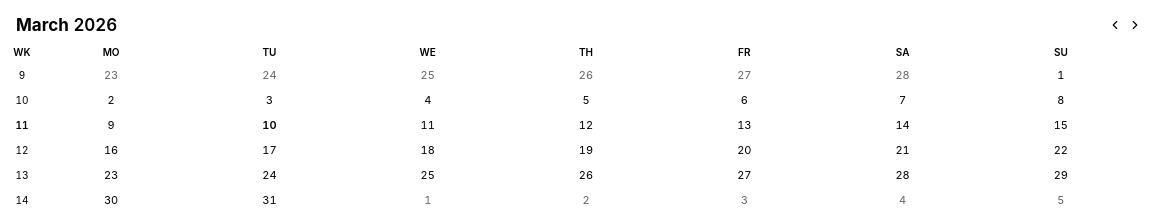
Test case: MiniCalendar › paging › pages on from the paged month
Click the button named "Next month". click: {"x": 1135, "y": 25}
box: [1126,16,1144,34]
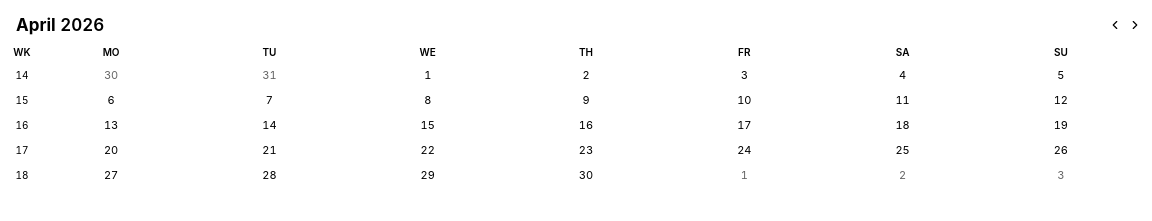
Click the button named "Next month". click: {"x": 1135, "y": 25}
box: [1126,16,1144,34]
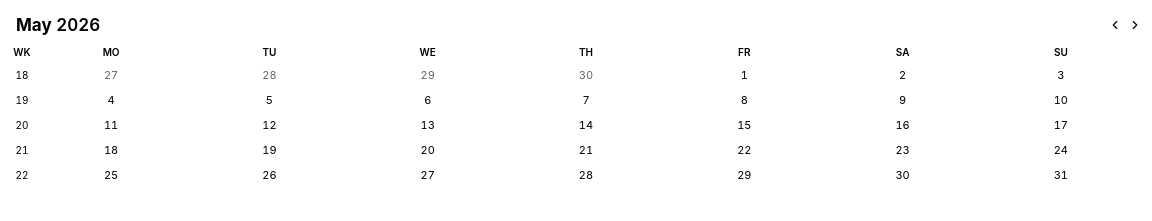
Result: the button "May 2026" is shown at [12,12,1104,38]
